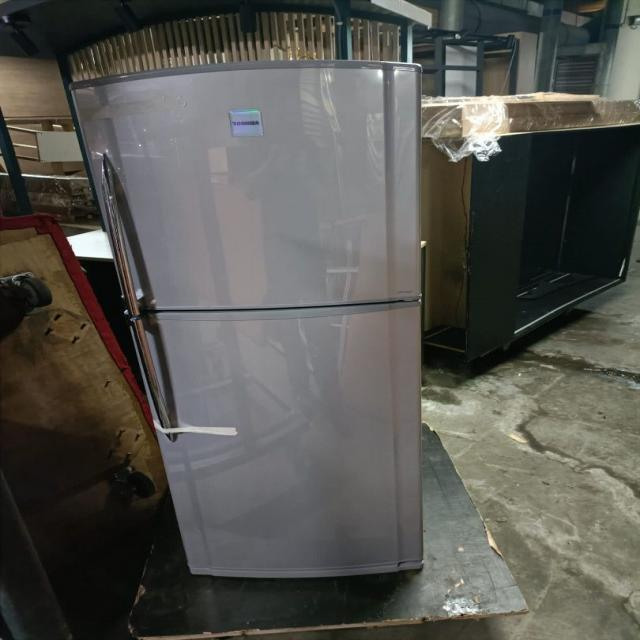refrigerator: (76, 61, 426, 581)
